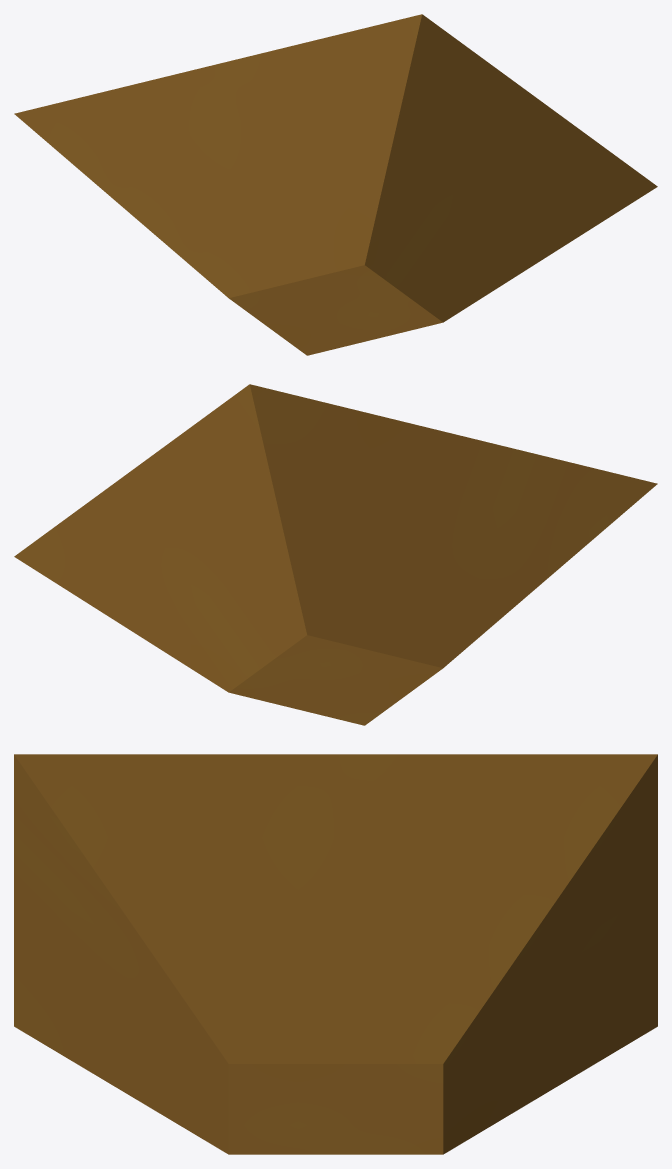
Rendered from trench0.glb.
3 views of the same model, one above another, from view 1: azimuth 30°, elevation 25°; view 2: azimuth 150°, elevation 25°; view 3: azimuth 270°, elevation 25° (orthographic). The views are drawn at different scales.
Parts seen in each view (by area): view 1: Trench0; view 2: Trench0; view 3: Trench0.
Part boxes in pixels (x1,y1,x2,y2): Trench0: (14,14,657,355); Trench0: (14,384,657,725); Trench0: (14,754,657,1154).
Size of the model in its own units: 0.6667 by 0.25 by 0.6667.
1 material, 1 textured.
